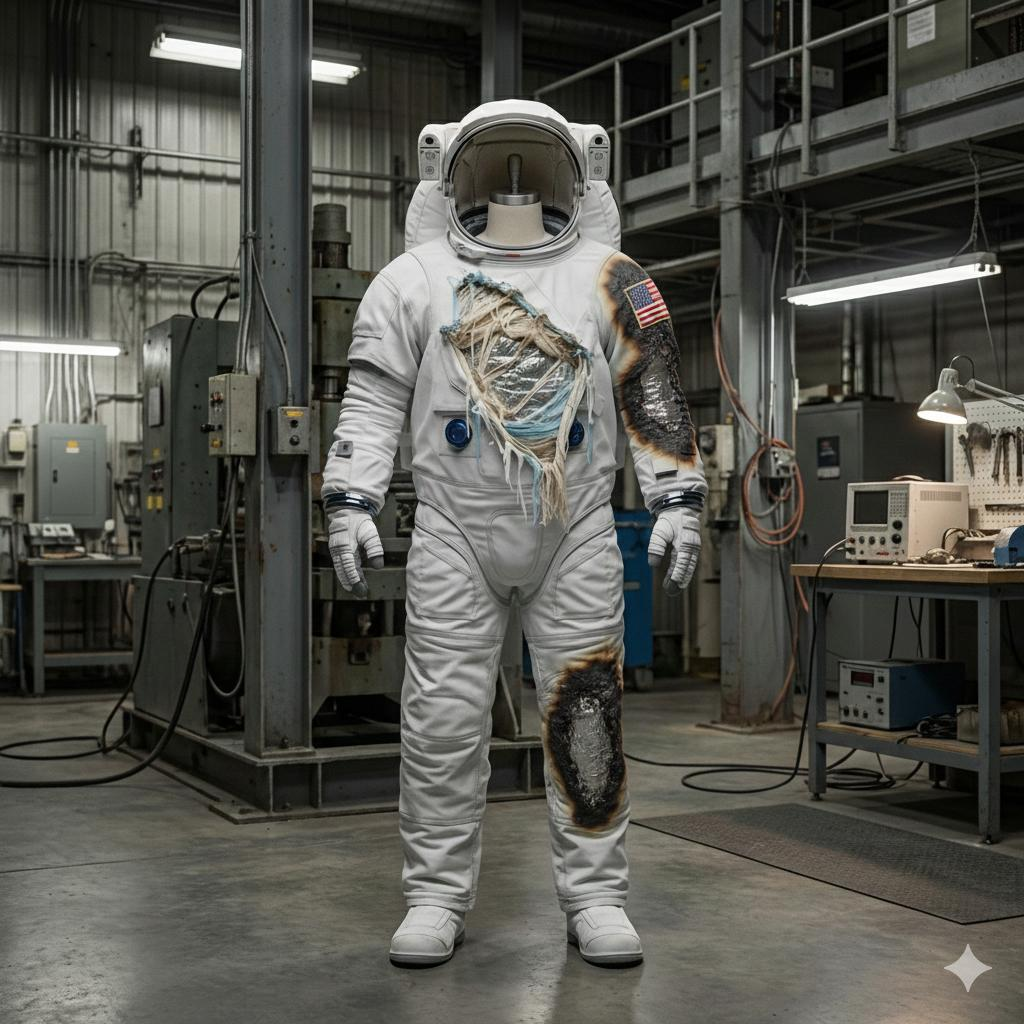burn: (587, 273, 734, 492), (552, 616, 654, 869)
tear: (378, 263, 576, 530)
